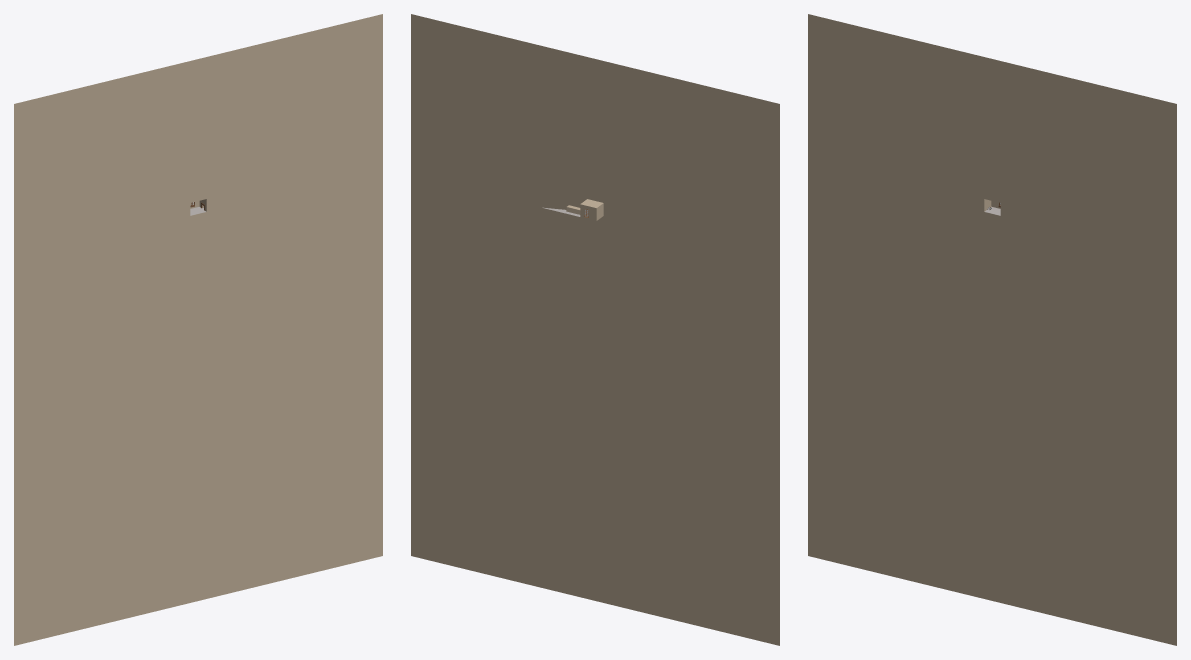
File: dev-home.glb
The picture shows the model from 3 angles, left to right: view 1: azimuth 30°, elevation 25°; view 2: azimuth 150°, elevation 25°; view 3: azimuth 330°, elevation 25°; orthographic projection.
Visible parts, largest first — view 1: dev-home; view 2: dev-home; view 3: dev-home.
Boxes of the visible parts, box(x1,y1,x2,y2) form: dev-home: box(14, 14, 382, 645); dev-home: box(411, 14, 779, 645); dev-home: box(808, 14, 1176, 645).
Bounding box in the file's own units: 89.98 × 126 × 3.33.
Materials: 1 (1 with a texture image).
